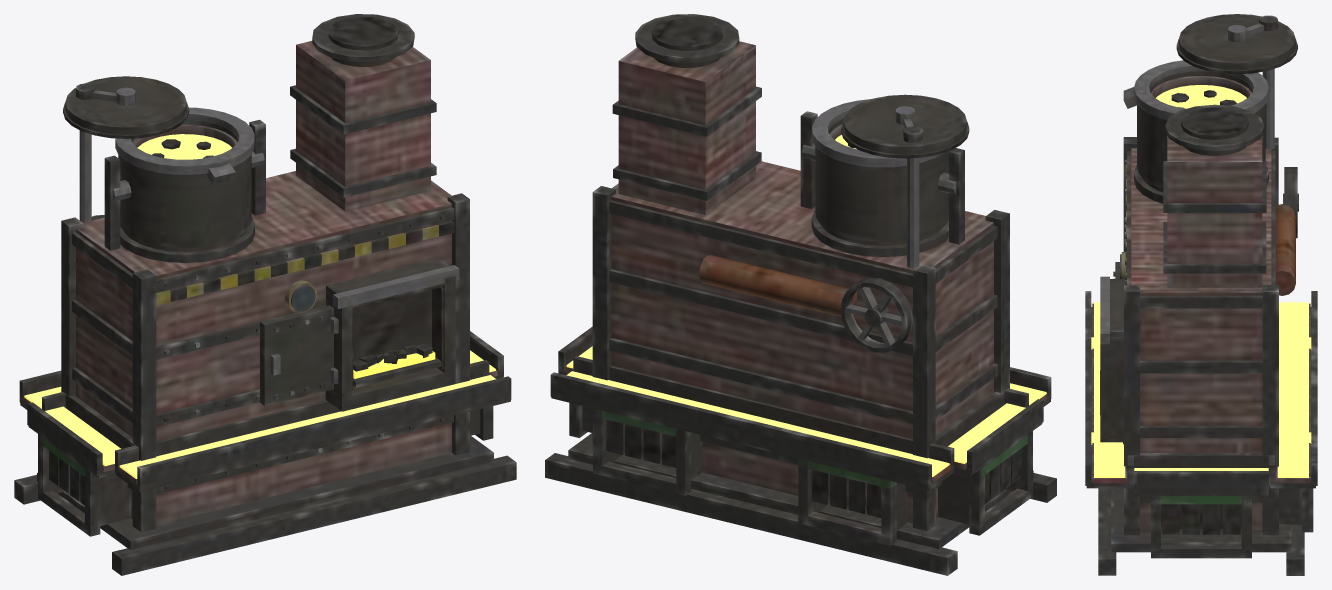
The model's file is feM_Foundry.glb.
3 views of the same model, side by side, from view 1: azimuth 30°, elevation 25°; view 2: azimuth 150°, elevation 25°; view 3: azimuth 270°, elevation 25° (orthographic). The views are drawn at different scales.
Visible parts, largest first — view 1: feM_Foundry_Base; view 2: feM_Foundry_Base, FeSpin_x3_Blower; view 3: feM_Foundry_Base, FeSpin_x3_Blower.
Part boxes in pixels (x1,y1,x2,y2): feM_Foundry_Base: [14, 14, 516, 575]; feM_Foundry_Base: [545, 14, 1056, 575]; FeSpin_x3_Blower: [840, 277, 912, 352]; feM_Foundry_Base: [1085, 14, 1317, 575]; FeSpin_x3_Blower: [1283, 167, 1298, 238].
Bounding box in the file's own units: 2.02 × 2.02 × 1.04.
3 materials, 1 textured.
